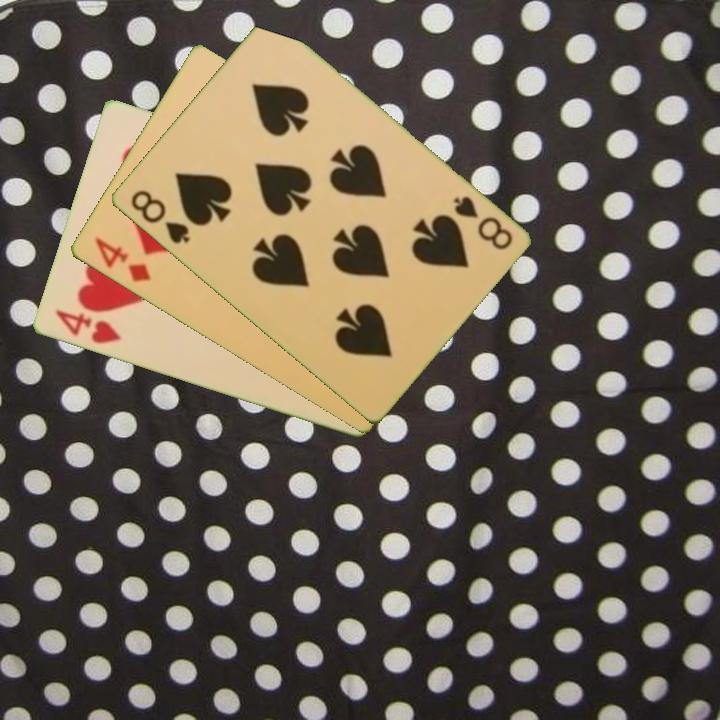4d: (90, 234, 153, 285)
4h: (50, 306, 124, 347)
8s: (126, 186, 193, 247), (449, 192, 515, 253)
